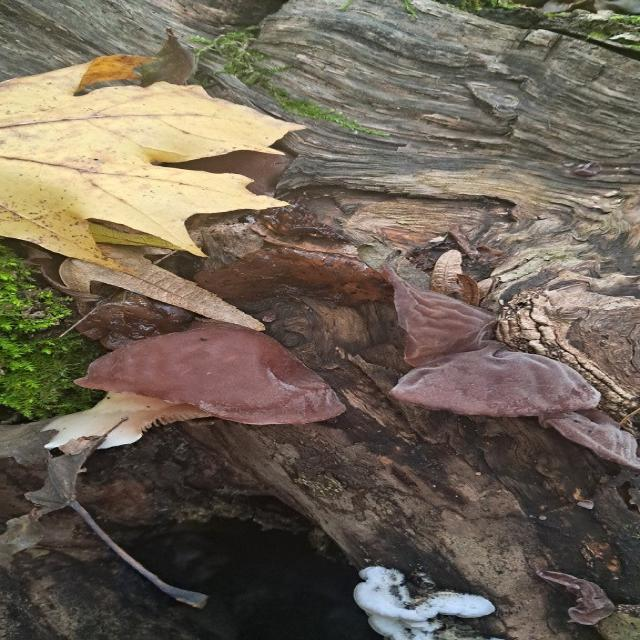Matang: (360, 258, 640, 473), (80, 314, 353, 428)
